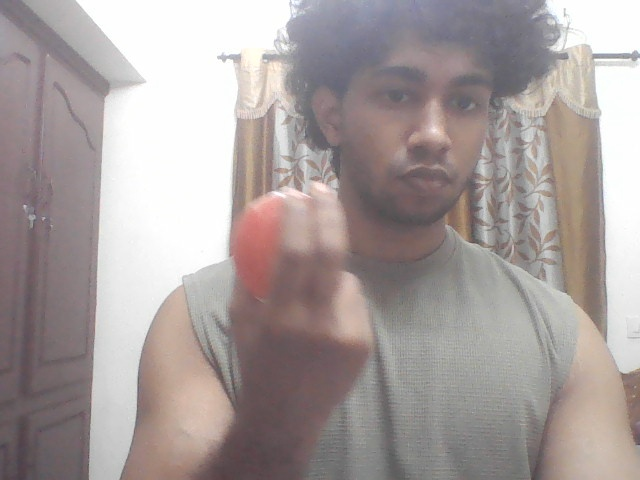cricket_ball: (228, 187, 301, 303)
